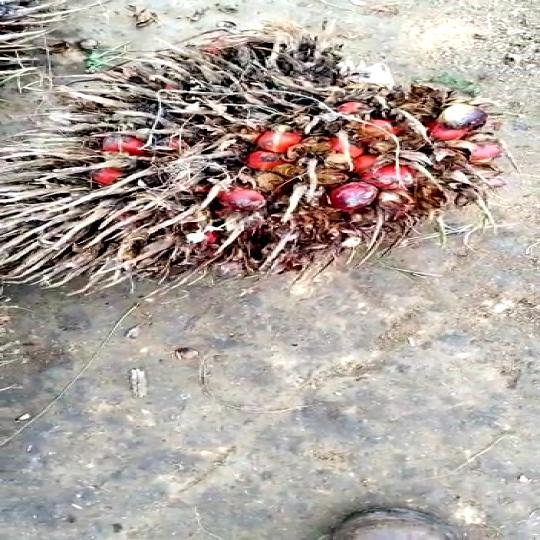terlalu masak: (0, 23, 508, 300)
